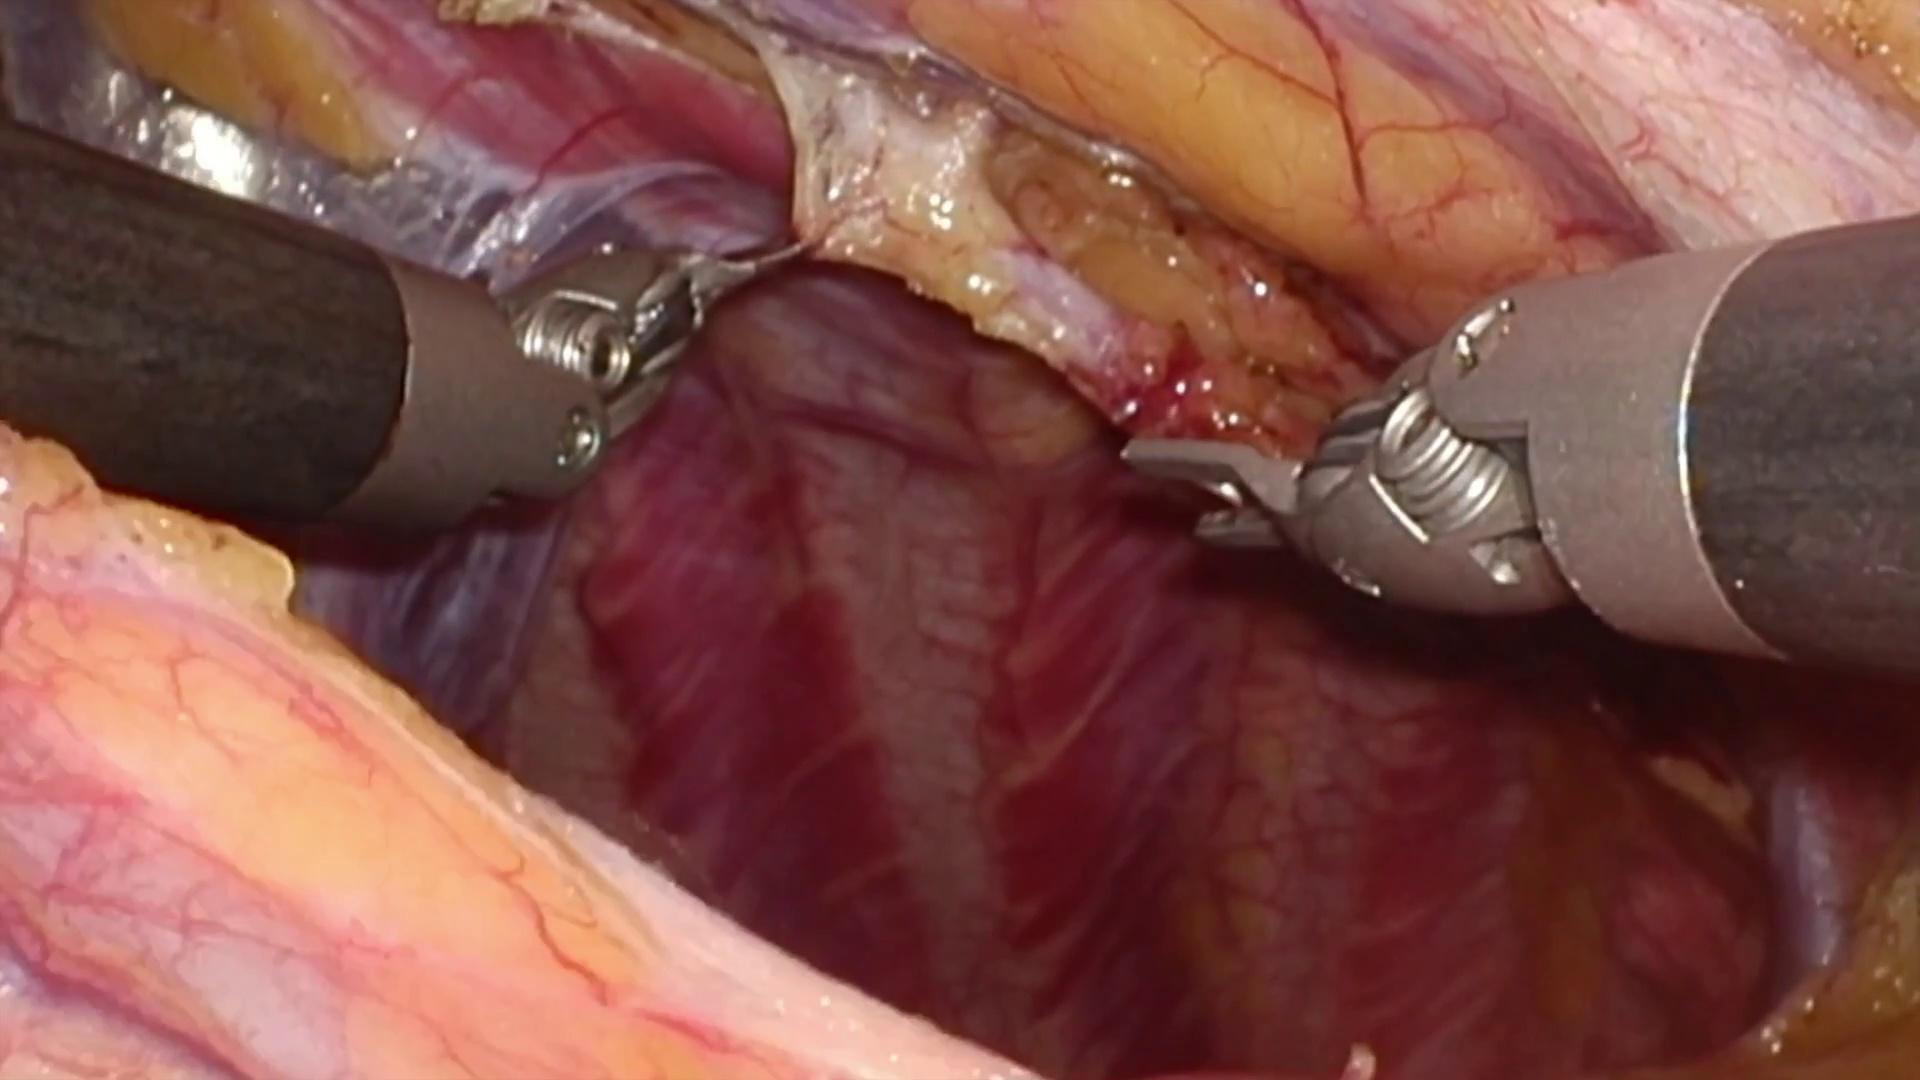Debakey: (654, 207, 829, 334)
clipper: (1118, 426, 1530, 634)
